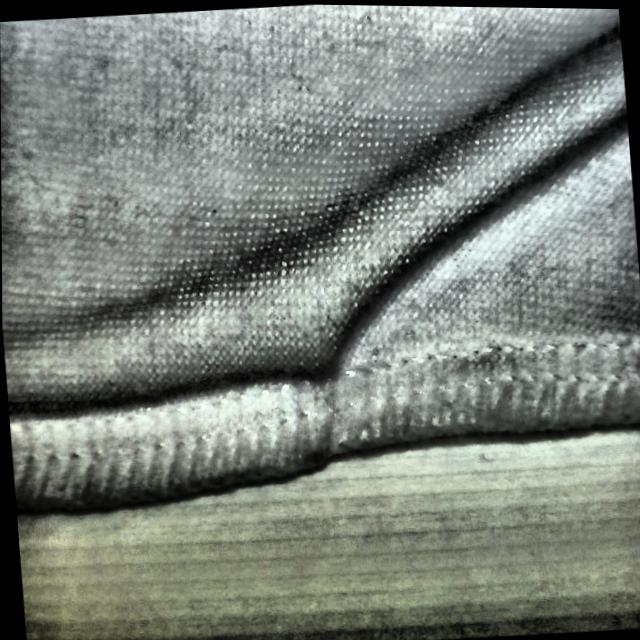seam: (157, 190, 443, 492)
